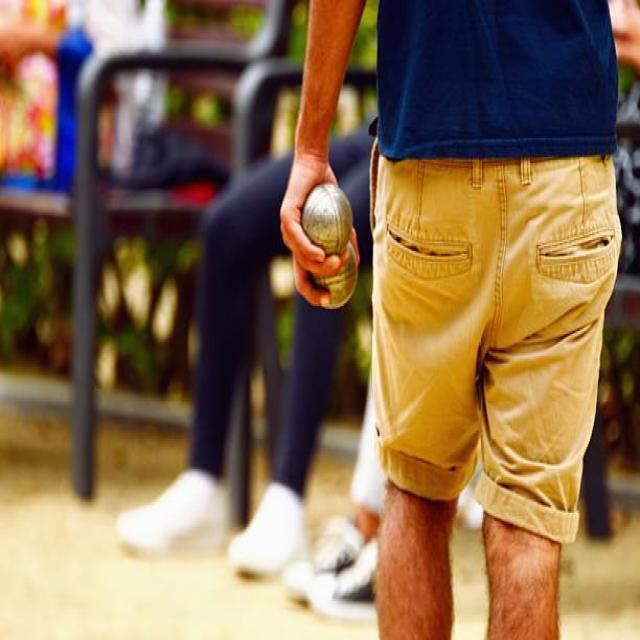petanque: (302, 183, 354, 250), (307, 249, 362, 312)
